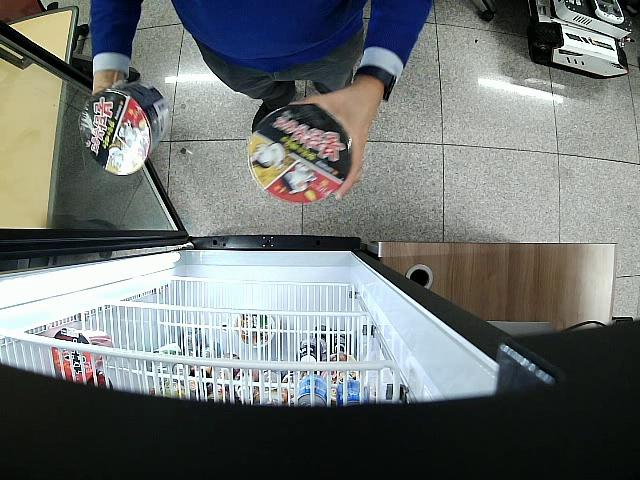00_hand: (289, 86, 376, 201)
07_buldak_L: (248, 104, 351, 204), (79, 81, 170, 175)
